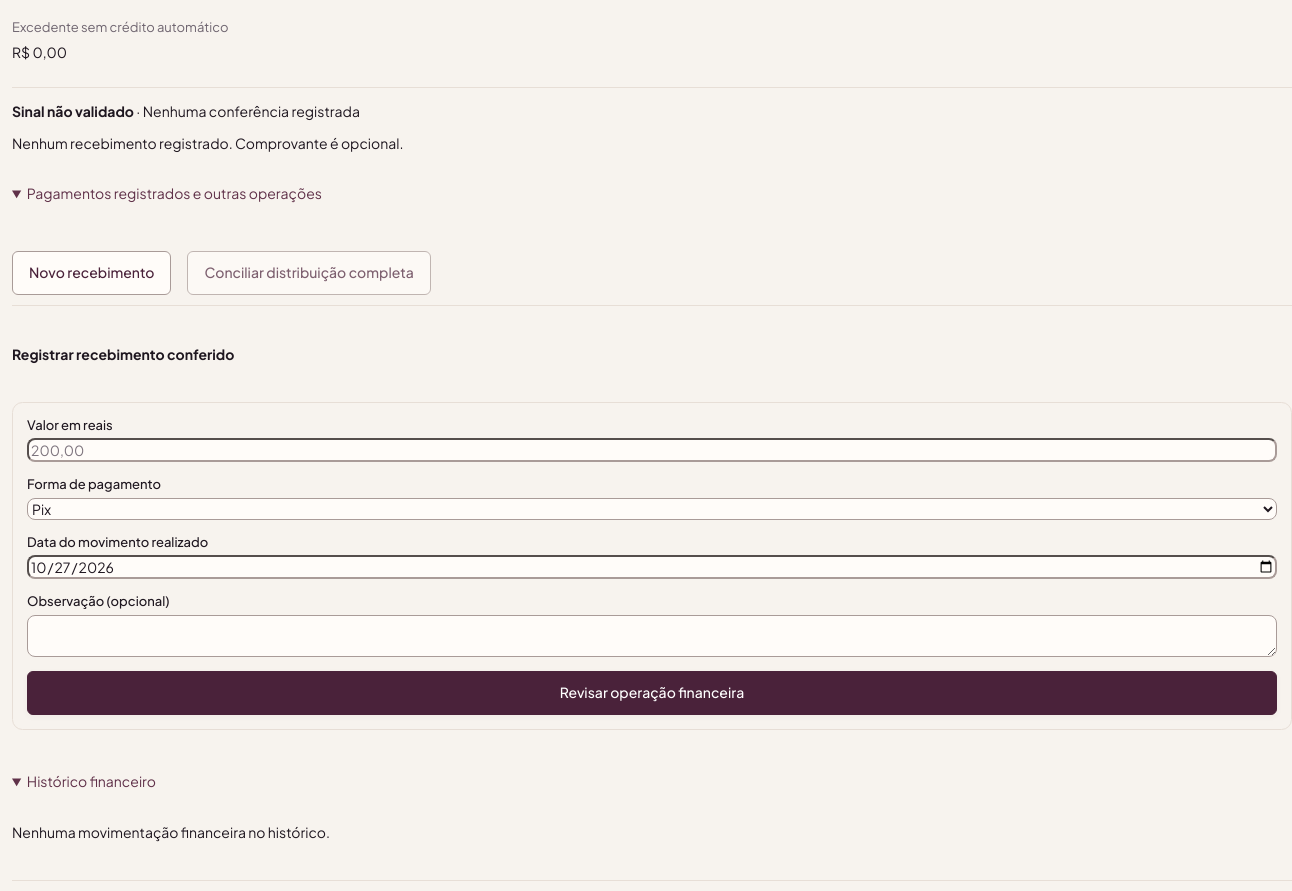
Test: preserves the exact request and prevents editing after unknown connection outcome
(page scrolled)
Step 1. Type "200.00" into the field labelled "Valor em reais" → (652, 450), box 27,438 -> 1277,462
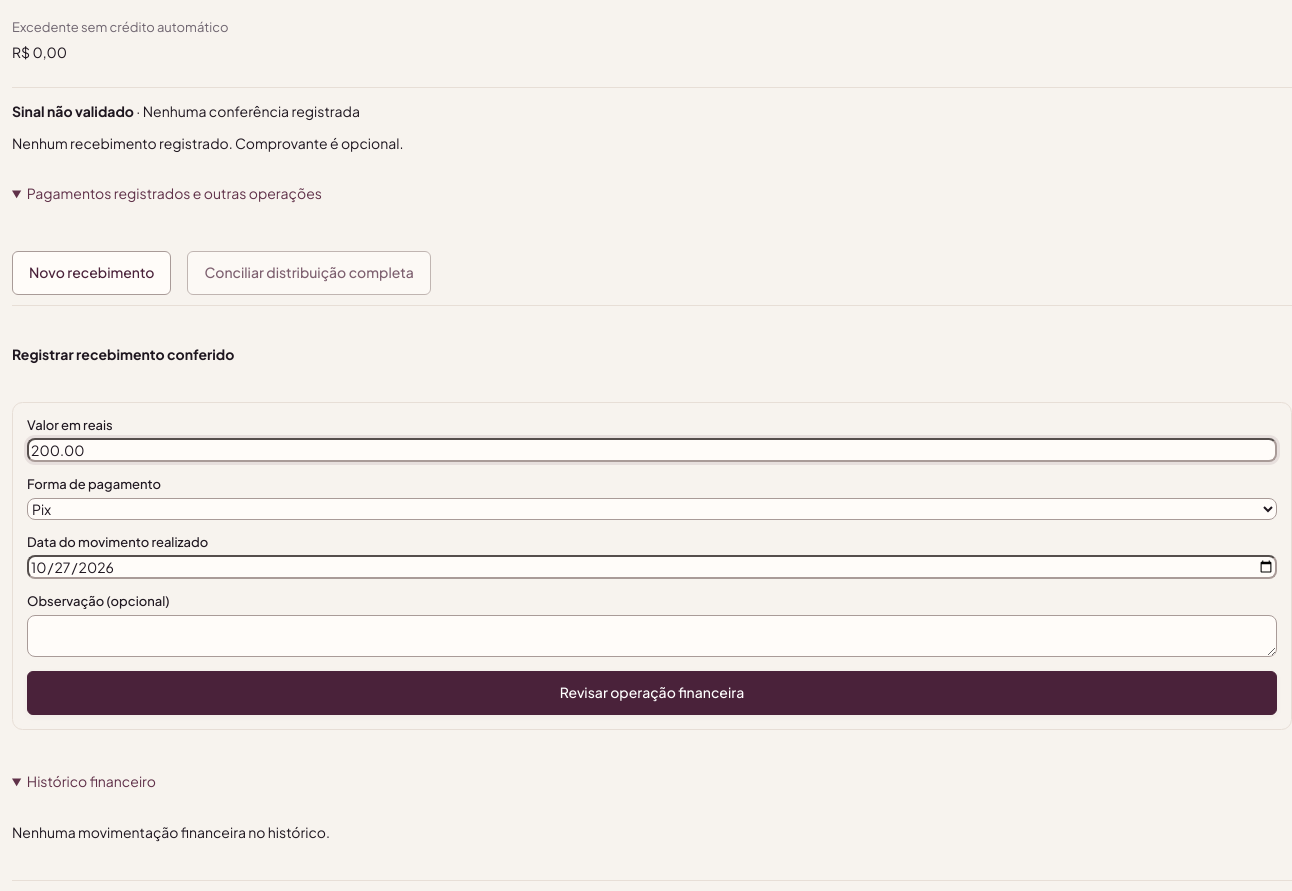
Step 2. Click the button "Revisar operação financeira" → (652, 693), box 27,671 -> 1277,715
(page scrolled)
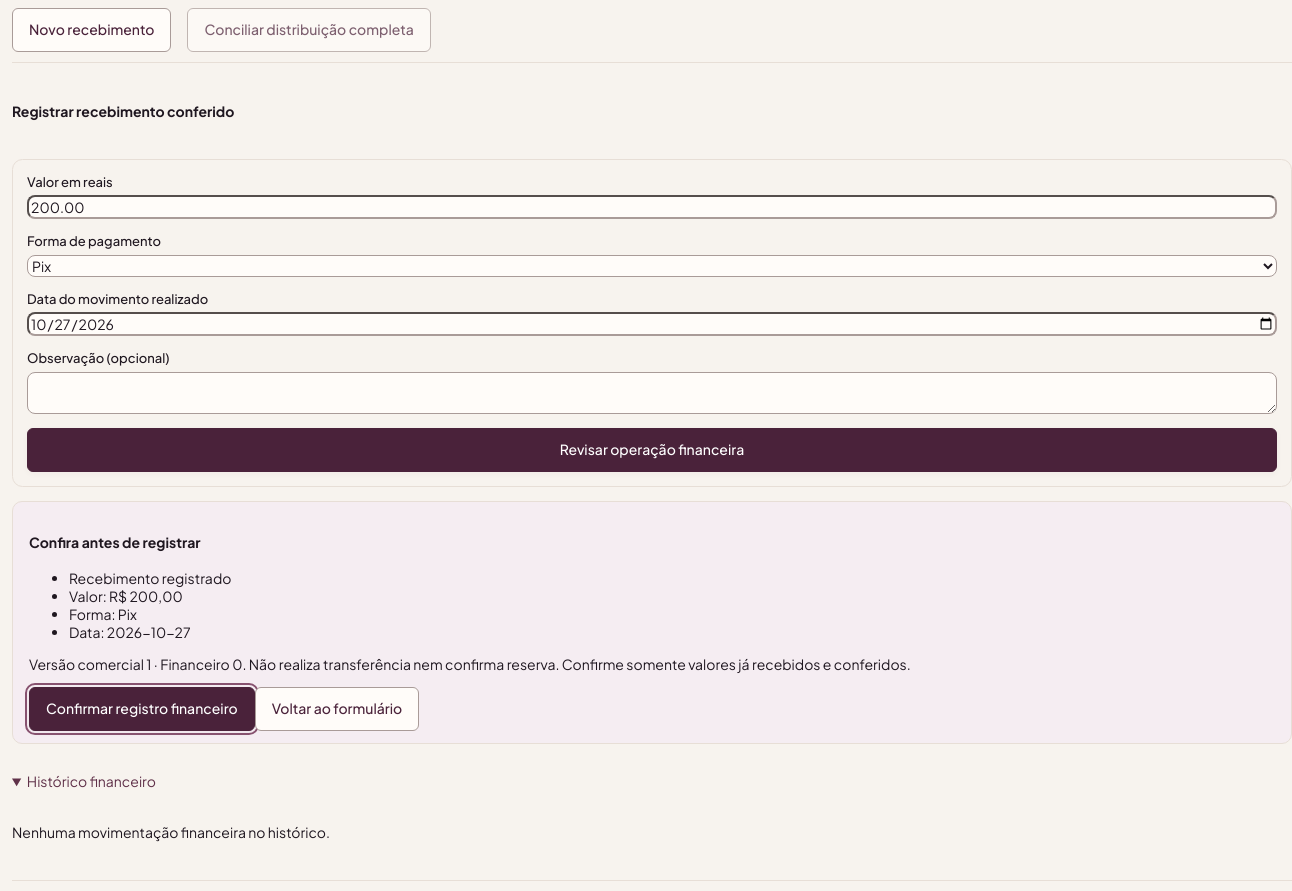
Step 3. Click the button "Confirmar registro financeiro" → (142, 709), box 29,687 -> 255,731
(page scrolled)
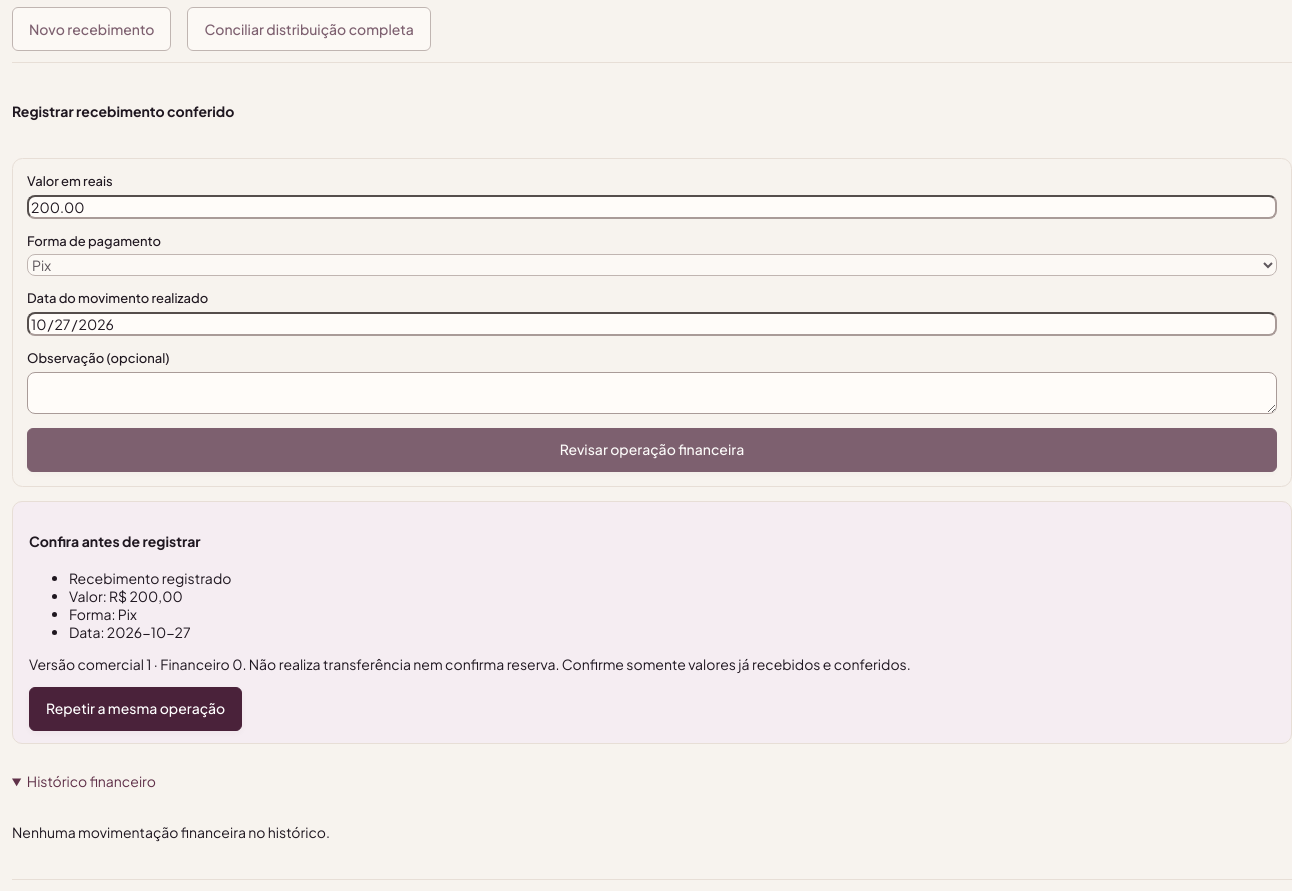
Check: the field labelled "Valor em reais" is disabled, box 27,195 -> 1277,219
Step 4. Click the button "Repetir a mesma operação" → (136, 709), box 29,687 -> 242,731
(page scrolled)
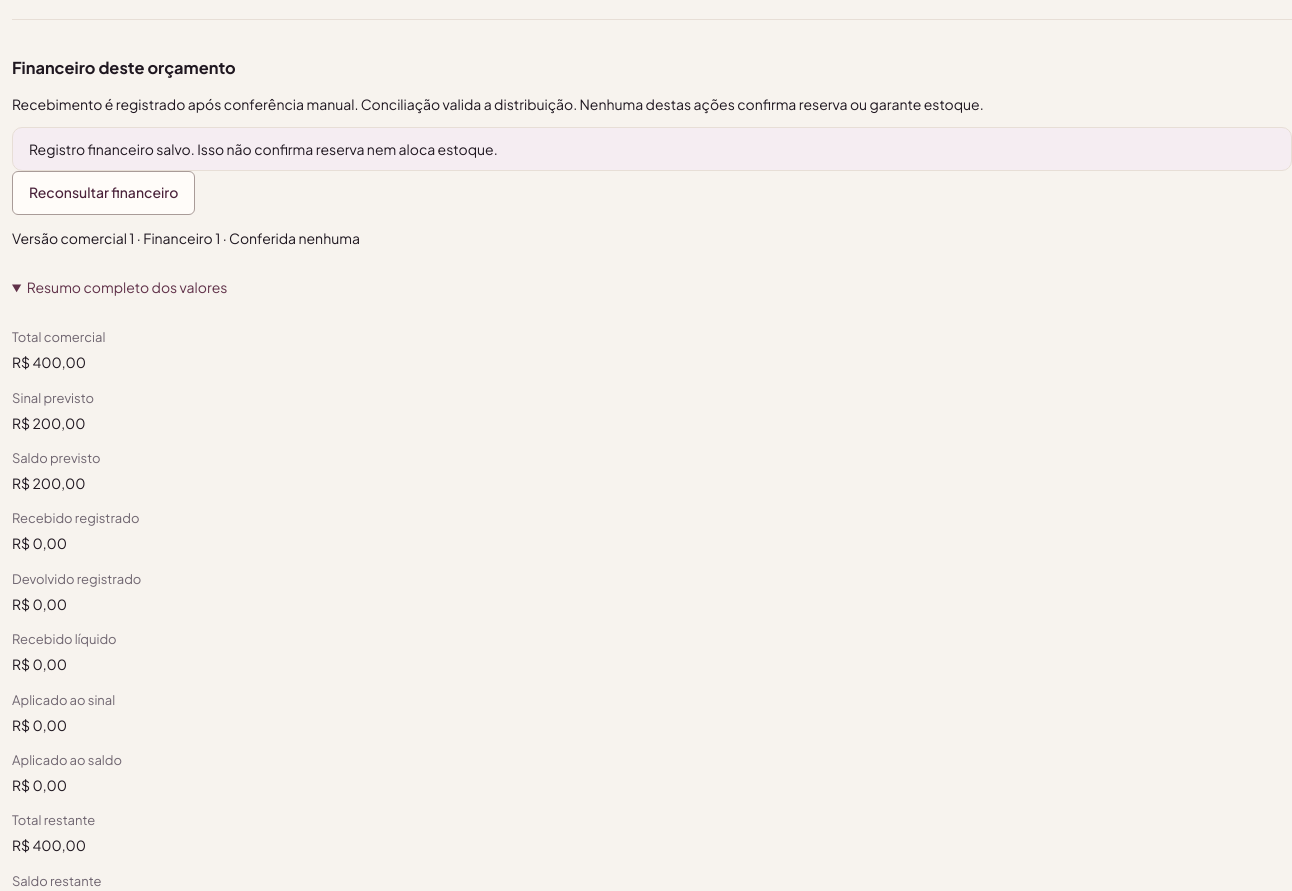
Check: the text "Registro financeiro salvo. Isso não confirma reserva nem aloca estoque." is shown, box 12,127 -> 1291,171
